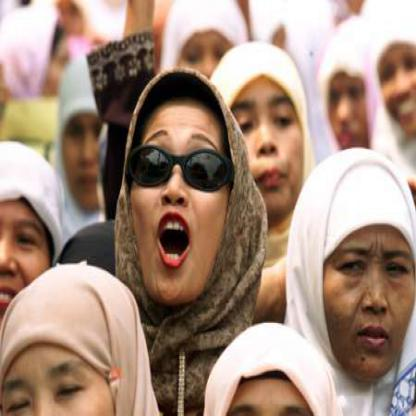face: (128, 77, 235, 308), (225, 44, 307, 222), (1, 156, 57, 344), (59, 61, 126, 211), (326, 32, 384, 161)
